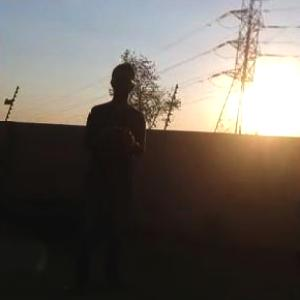follow: (60, 57, 150, 293)
